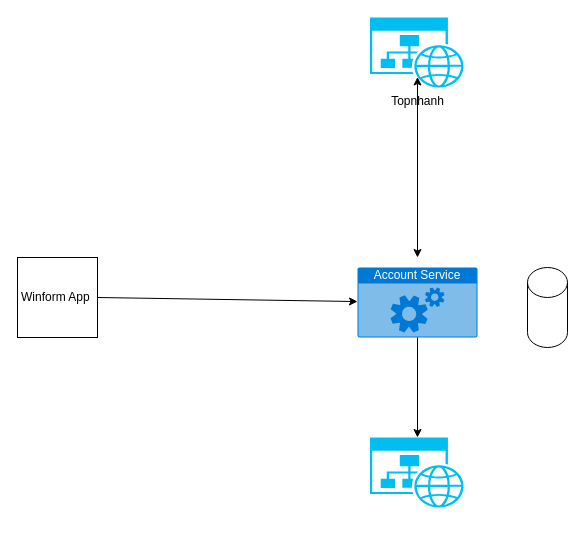
Some shapes in this 585 by 545 pixel diagram are drawn without their labels. Each missing label, with the centre of its shape:
"BanhDa" goes at point 417,472.
"Postgre" goes at point 547,307.
